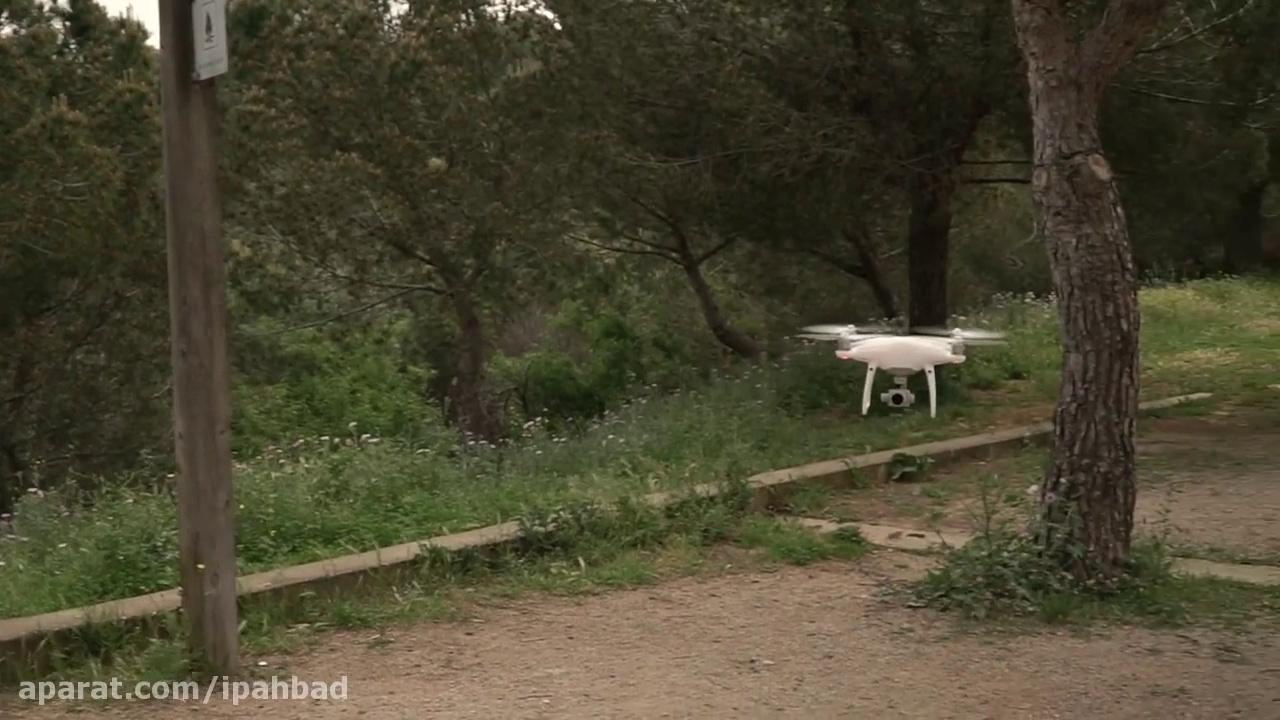drone: (788, 318, 1012, 422)
